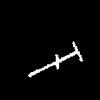double_crochet: (28, 42, 82, 76)
